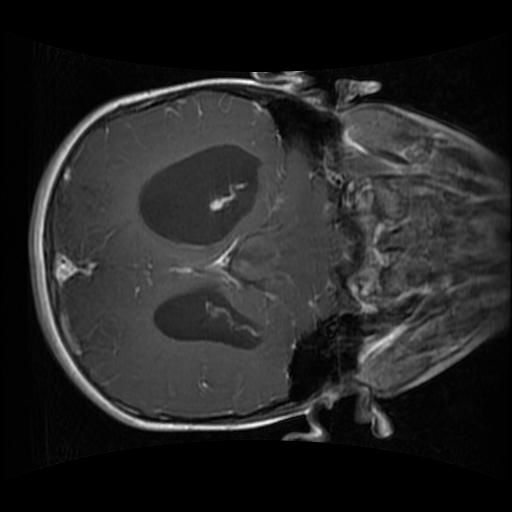glioma: (133, 140, 267, 251)
